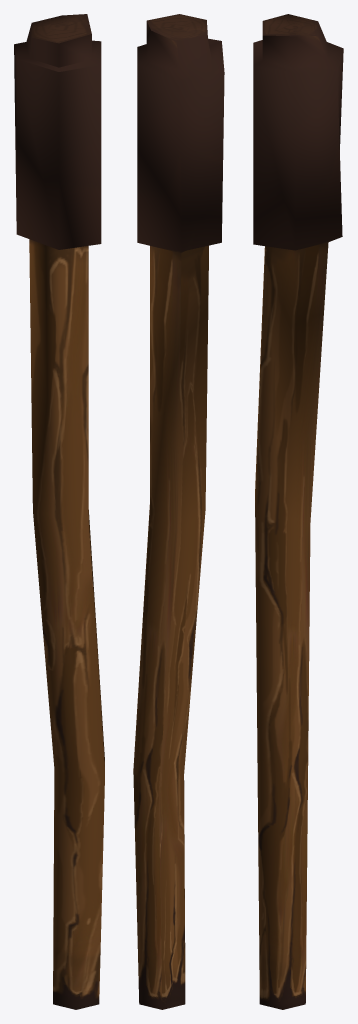
Rendered from Torch_3.fbx.
3 renders of one model, left to right at view 1: azimuth 30°, elevation 25°; view 2: azimuth 210°, elevation 25°; view 3: azimuth 270°, elevation 25°, orthographic.
Parts seen in each view (by area): view 1: Cylinder; view 2: Cylinder; view 3: Cylinder.
Part boxes in pixels (box(x1,y1,x2,y2)): Cylinder: box(14, 14, 104, 1009); Cylinder: box(133, 14, 224, 1009); Cylinder: box(253, 14, 343, 1009).
Size of the model in its own units: 183 by 2018 by 170.
Materials: 1 (1 with a texture image).
